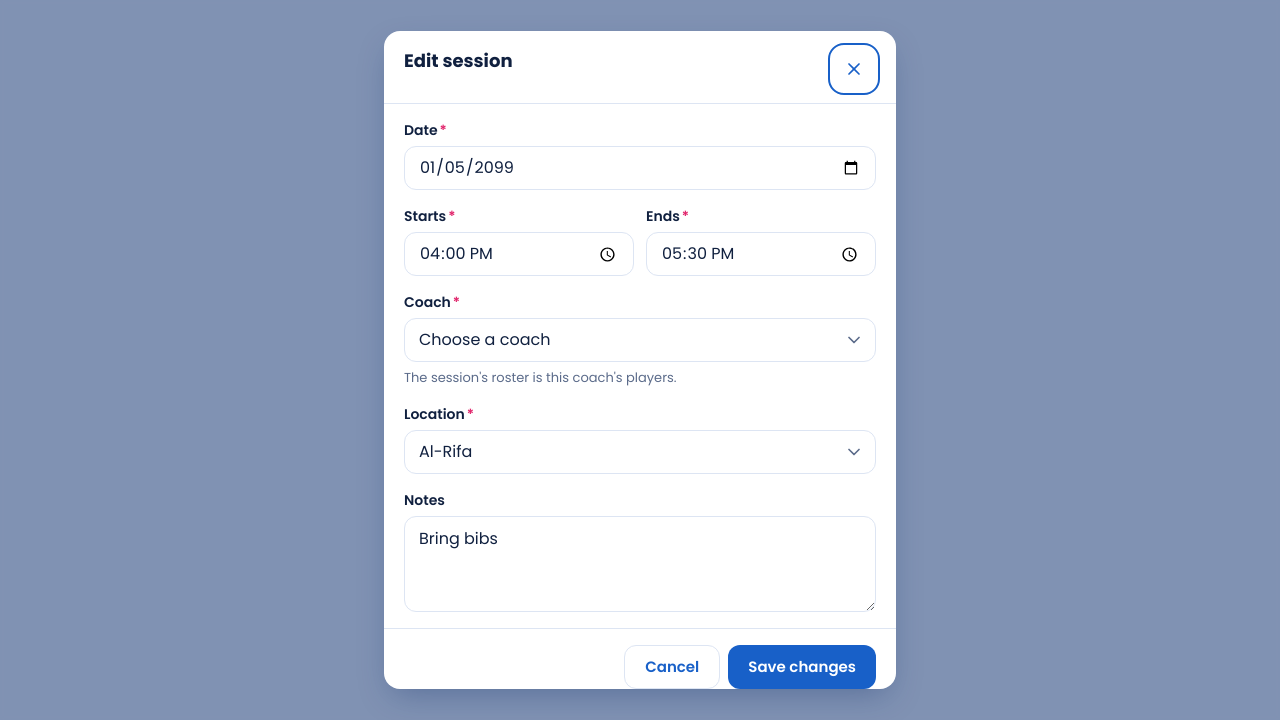
Test: SessionFormDialog › editing › shows the current values, has no repeat option, and saves the changes
Expected: the heading "Edit session" is shown, [404,47,512,75]
Expected: the time field labelled "Starts*" holds "16:00", [404,232,634,276]
Replace the text in the time field labelled "Ends*" with "18:00" at (761, 254), box [646,232,876,276]
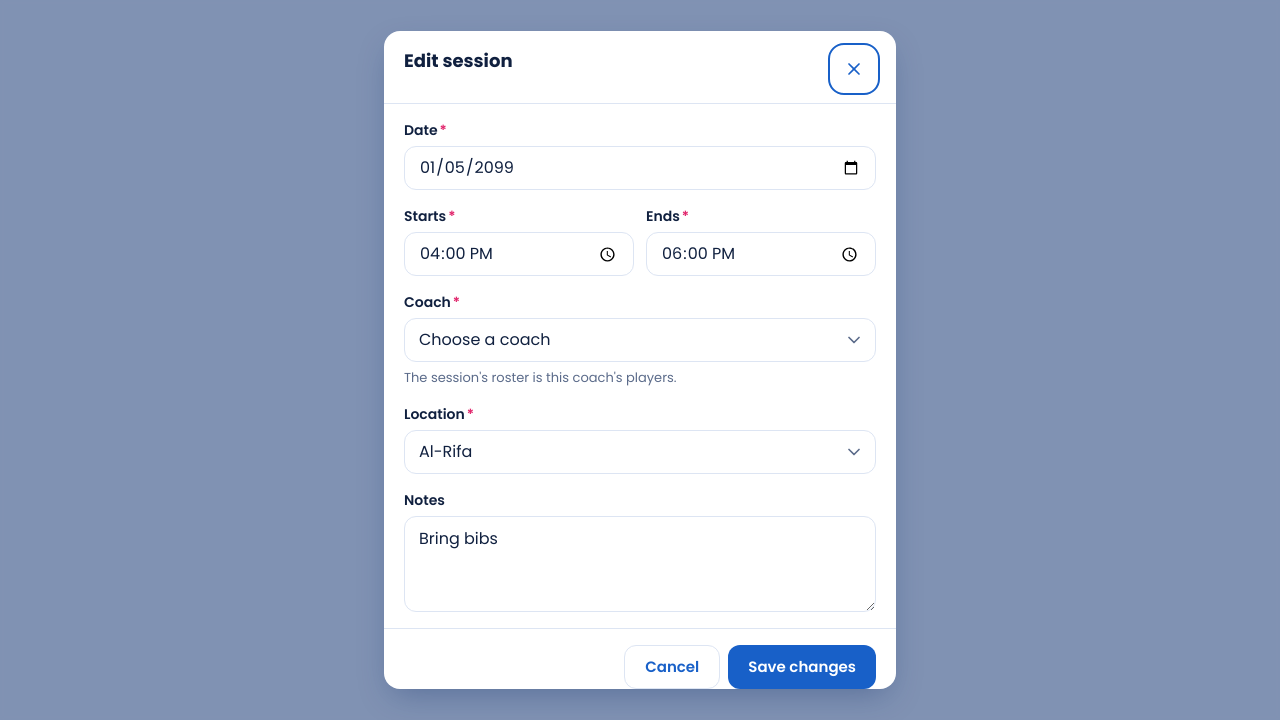
Click the button "Save changes" at (802, 667), box [728,645,876,689]
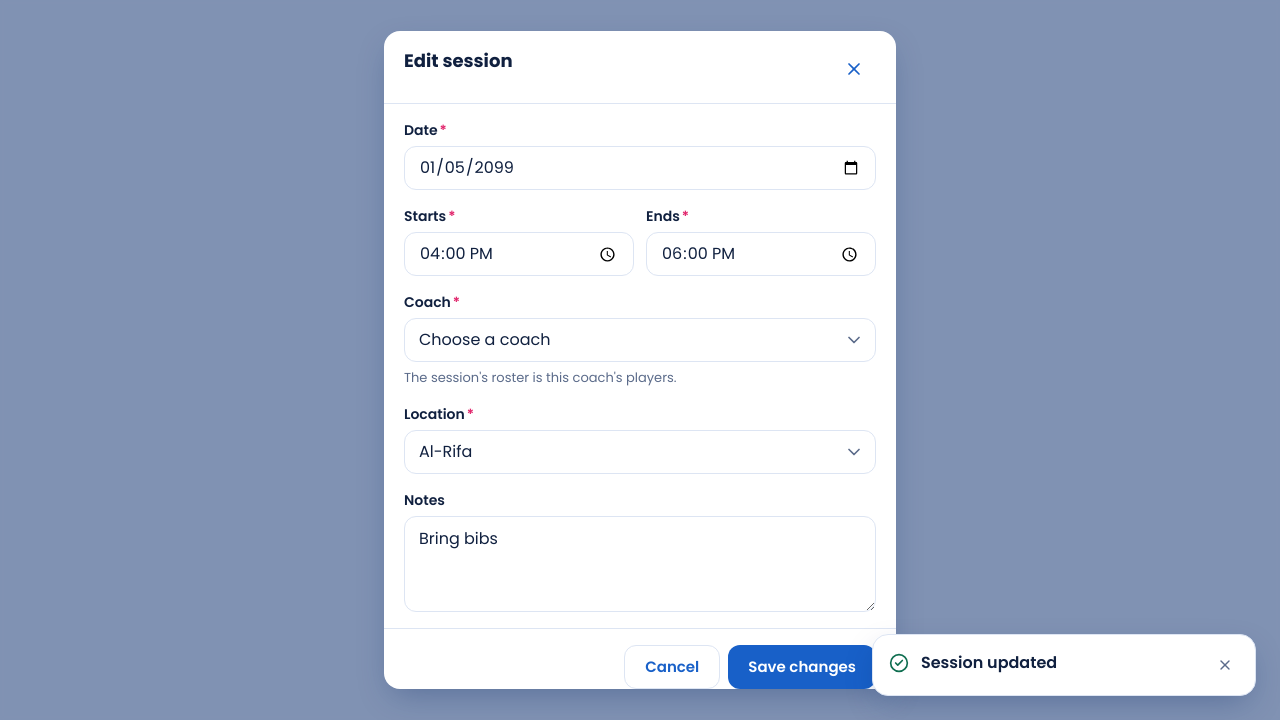
Expected: the text "Session updated" is shown, [921,651,1057,674]
